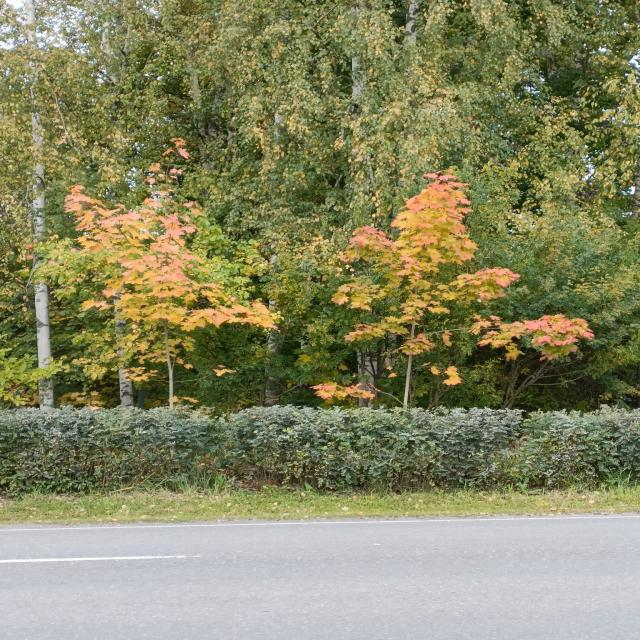Tree-detection: (303, 154, 592, 424), (4, 141, 286, 406)
